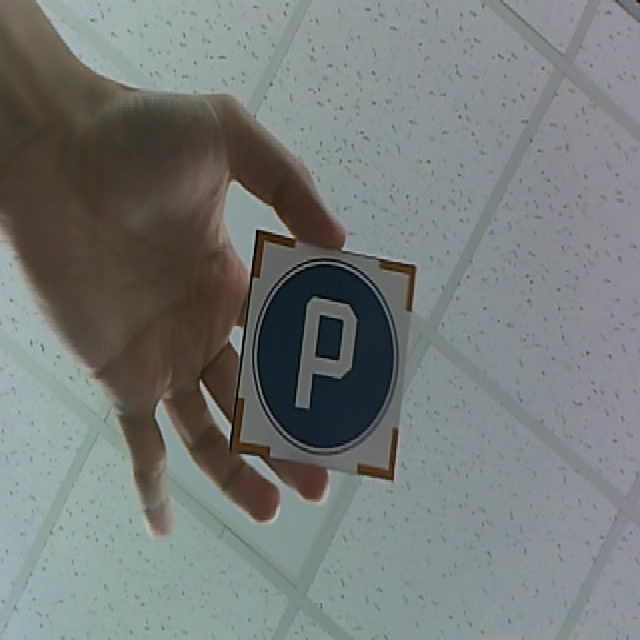parking: (230, 226, 418, 482)
